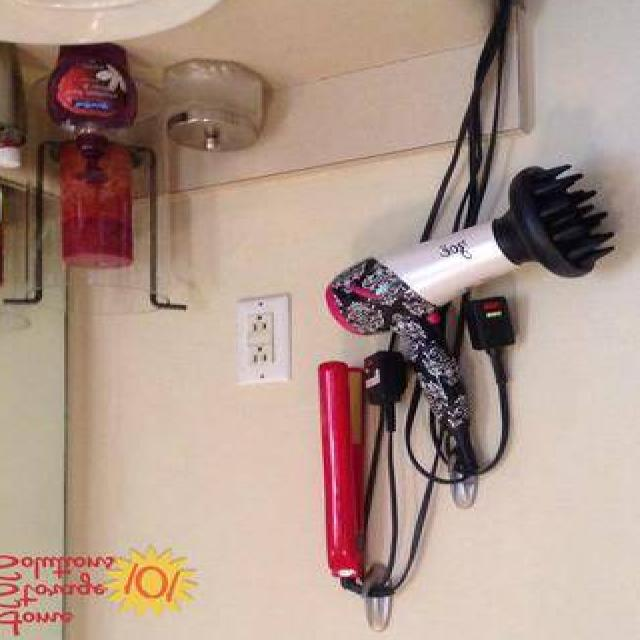dryer: (306, 156, 631, 509)
